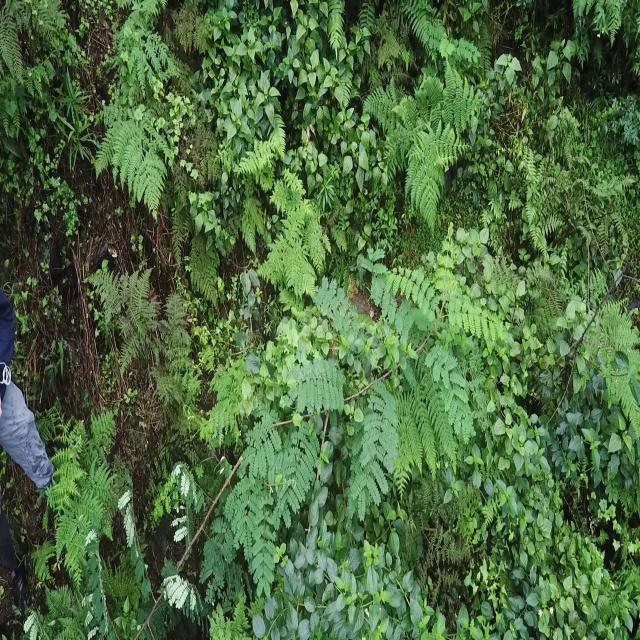Mysore-Thorn-Weed: (135, 233, 518, 640)
